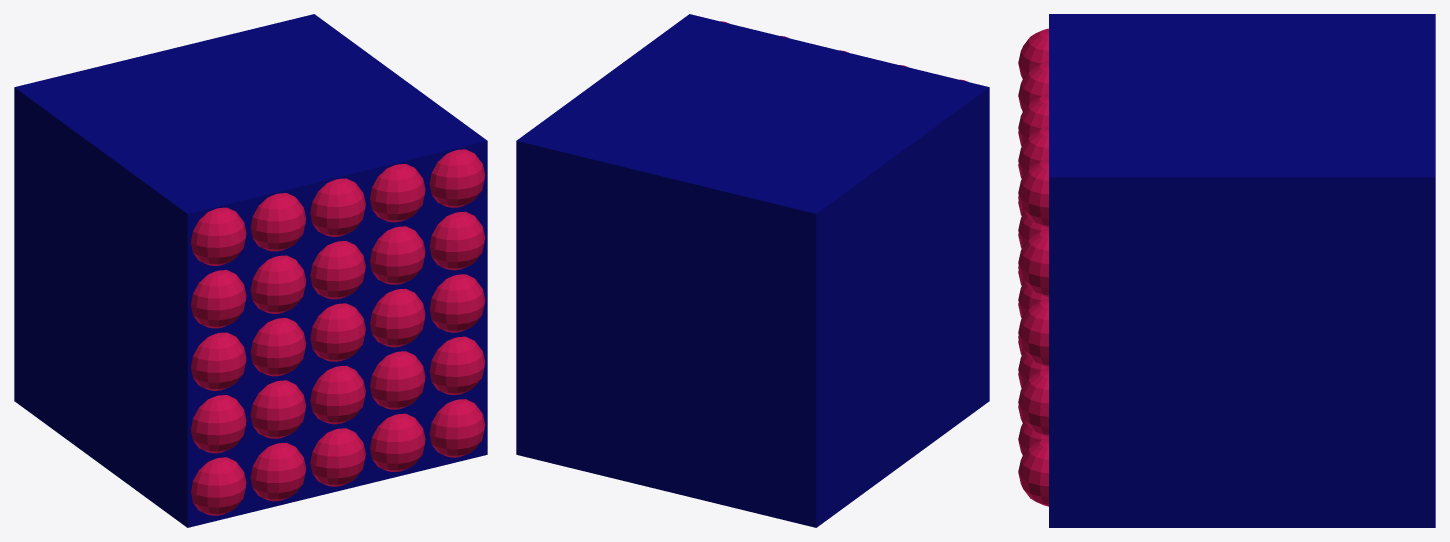
Rendered from Crusher.fbx.
3 views of the same model, side by side, from view 1: azimuth 30°, elevation 25°; view 2: azimuth 150°, elevation 25°; view 3: azimuth 270°, elevation 25° (orthographic). The views are drawn at different scales.
Parts seen in each view (by area): view 1: Cube; view 2: Cube; view 3: Cube.
Part boxes in pixels (bbox=[...]): Cube: bbox=[14, 14, 487, 527]; Cube: bbox=[516, 14, 989, 527]; Cube: bbox=[1018, 14, 1435, 527].
Bounding box in the file's own units: 630 × 630 × 680.
